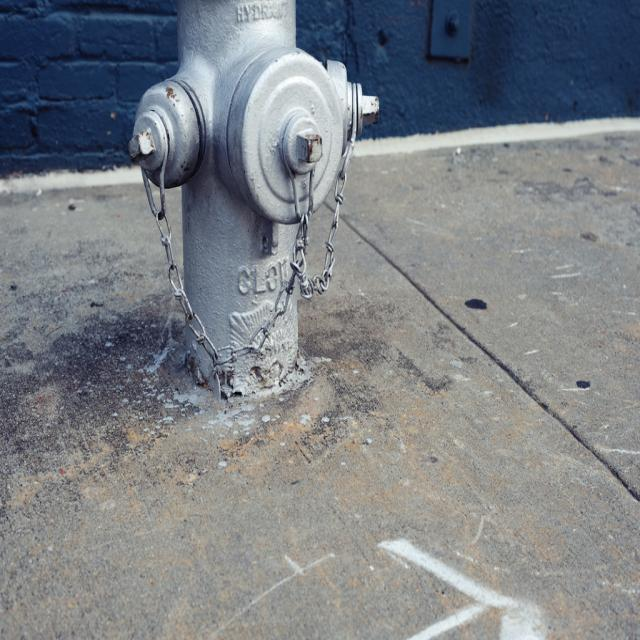fire_hydrant: (128, 0, 379, 398)
